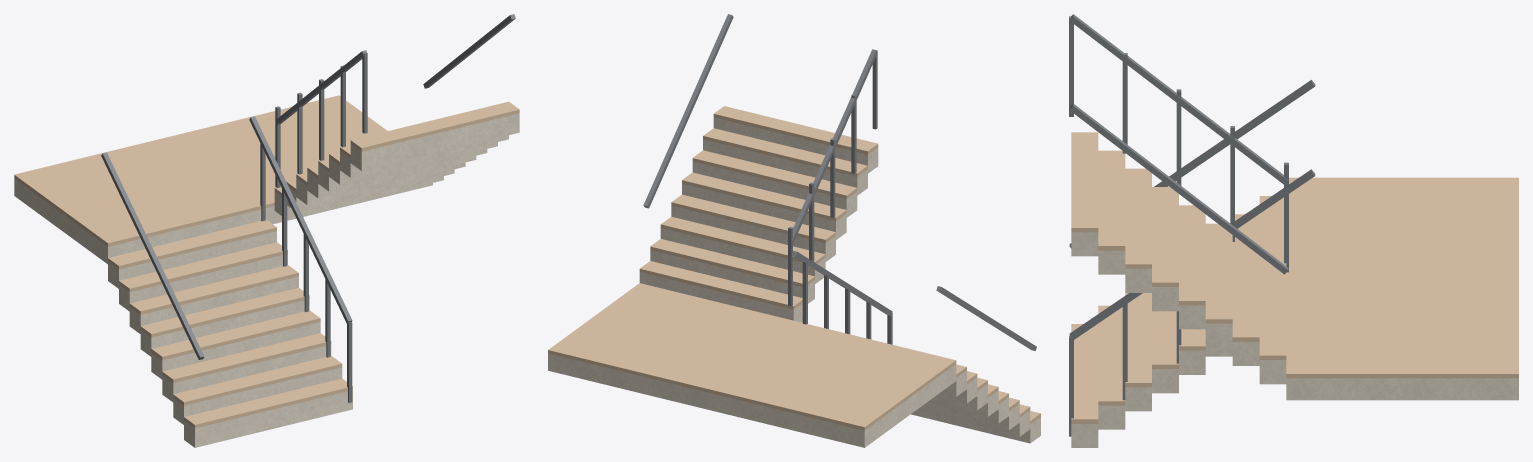
File: stairs_u_3m_192_192.glb
3 views of the same model, side by side, from view 1: azimuth 30°, elevation 25°; view 2: azimuth 150°, elevation 25°; view 3: azimuth 270°, elevation 25° (orthographic). The views are drawn at different scales.
Visible parts, largest first — view 1: stairs_u_3m_192_192_floor, stairs_u_3m_192_192_plaster, stairs_u_3m_192_192_iron; view 2: stairs_u_3m_192_192_floor, stairs_u_3m_192_192_plaster, stairs_u_3m_192_192_iron; view 3: stairs_u_3m_192_192_floor, stairs_u_3m_192_192_plaster, stairs_u_3m_192_192_iron.
Boxes of the visible parts, x1,y1,x2,y2 form: stairs_u_3m_192_192_floor: [14, 95, 519, 428]; stairs_u_3m_192_192_plaster: [14, 113, 519, 447]; stairs_u_3m_192_192_iron: [101, 14, 515, 402]; stairs_u_3m_192_192_floor: [548, 106, 1040, 430]; stairs_u_3m_192_192_plaster: [548, 117, 1040, 447]; stairs_u_3m_192_192_iron: [643, 14, 1036, 350]; stairs_u_3m_192_192_floor: [1071, 132, 1518, 423]; stairs_u_3m_192_192_plaster: [1071, 232, 1518, 447]; stairs_u_3m_192_192_iron: [1069, 14, 1315, 436].
Size of the model in its own units: 3.84 by 4.01 by 3.72.
3 materials, 1 textured.
